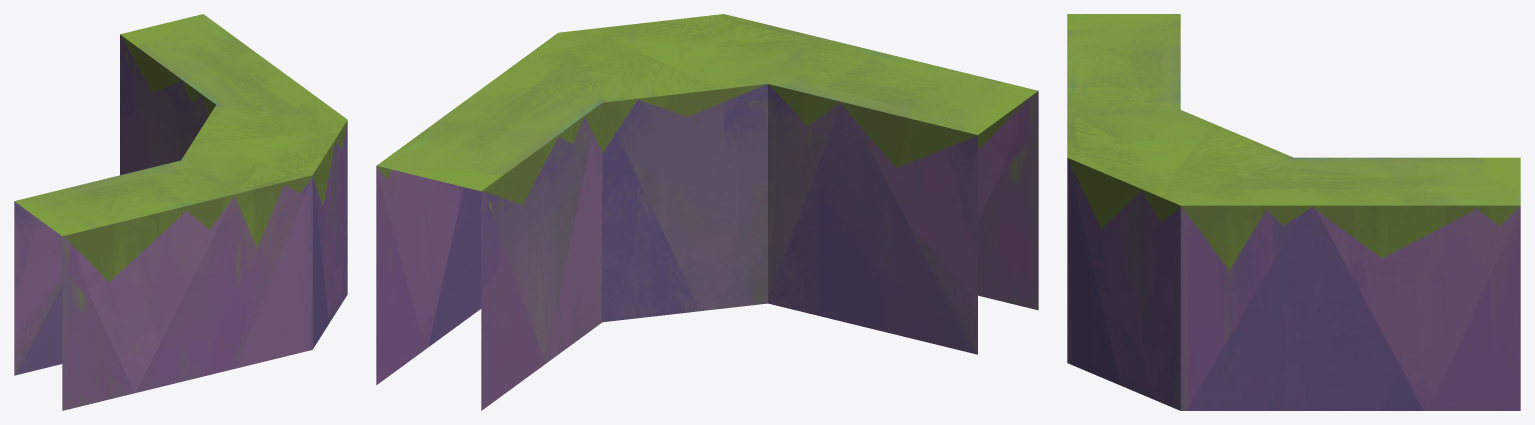
The model's file is wall_corner1.fbx.
The picture shows the model from 3 angles, left to right: view 1: azimuth 30°, elevation 25°; view 2: azimuth 150°, elevation 25°; view 3: azimuth 270°, elevation 25°; orthographic projection. The views are drawn at different scales.
Visible parts, largest first — view 1: wall_corner1; view 2: wall_corner1; view 3: wall_corner1.
Part boxes in pixels (x1,y1,x2,y2): wall_corner1: (14, 14, 347, 410); wall_corner1: (376, 14, 1038, 410); wall_corner1: (1067, 14, 1520, 410).
Bounding box in the file's own units: 0.04 × 0.02 × 0.04.
